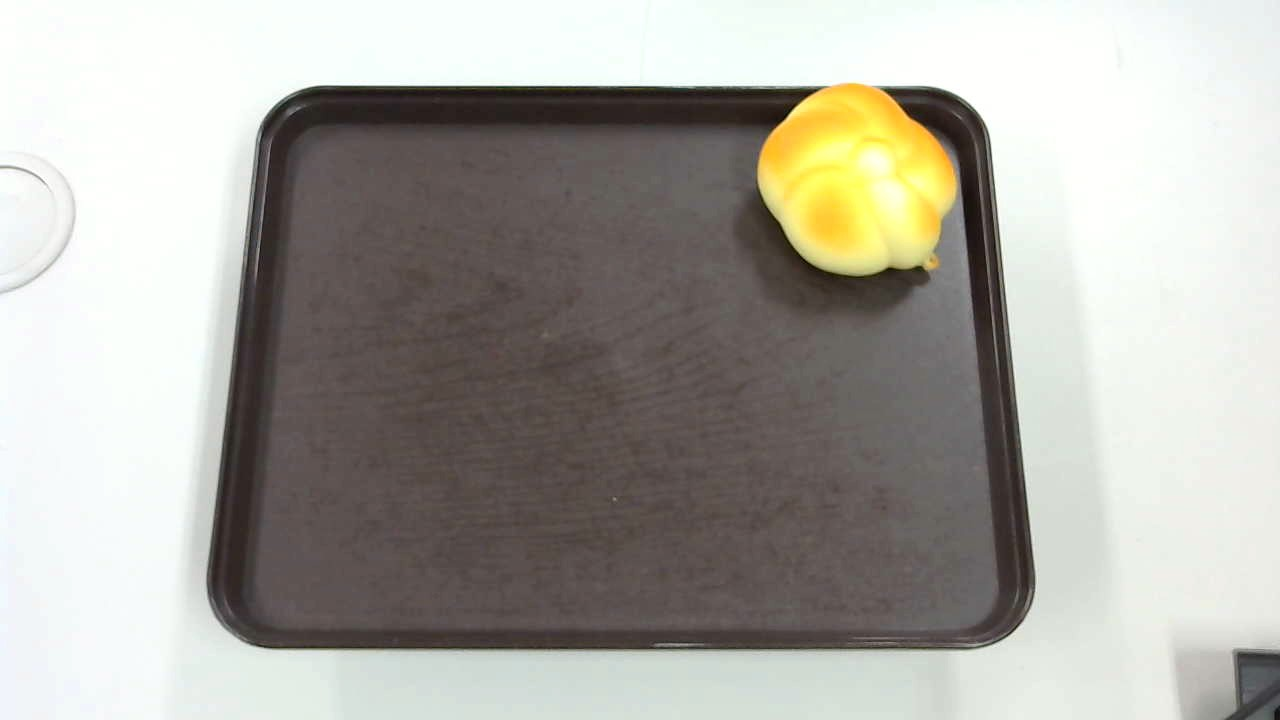twist bread: (757, 82, 956, 279)
